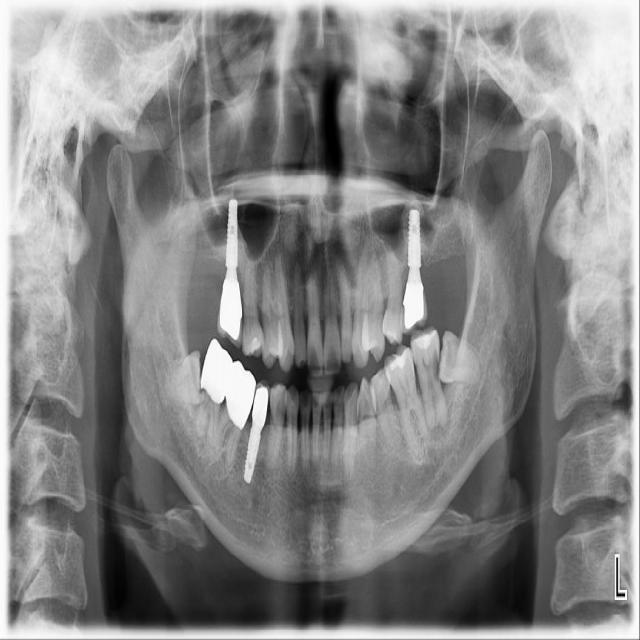52: (217, 359, 260, 430), (196, 336, 237, 406), (406, 324, 445, 373), (382, 342, 417, 393), (382, 307, 403, 345), (242, 322, 264, 358), (432, 347, 440, 385)
73: (621, 606, 631, 620)
Biomet 3i Implant: (437, 330, 483, 385)
Blue Sky Bio Implant: (408, 325, 450, 431)
Implant: (187, 337, 237, 448)
Keystone Dental Implant: (160, 349, 206, 408)
